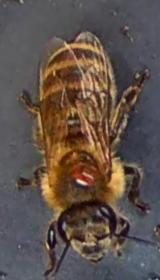varroa_mite: (72, 160, 94, 192)
